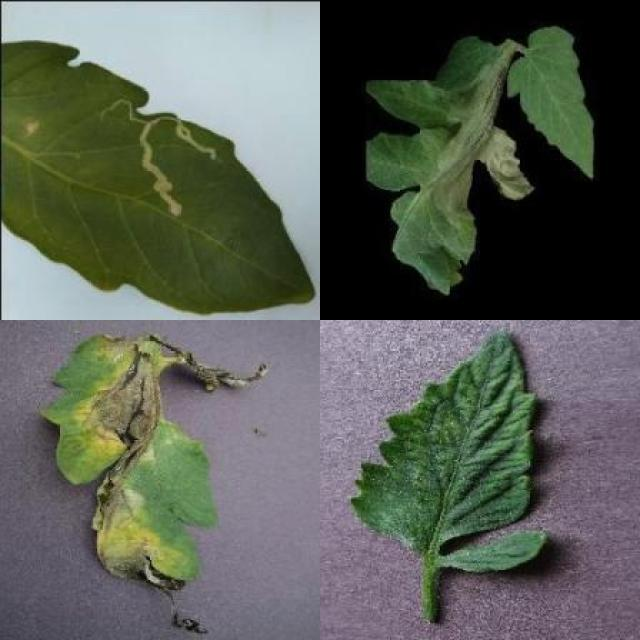Healthy: (504, 27, 596, 180)
Late Blight: (38, 330, 265, 640), (366, 39, 533, 295)
Leaf Miner: (0, 38, 314, 317)
Mosaic Virus: (352, 329, 548, 574)
